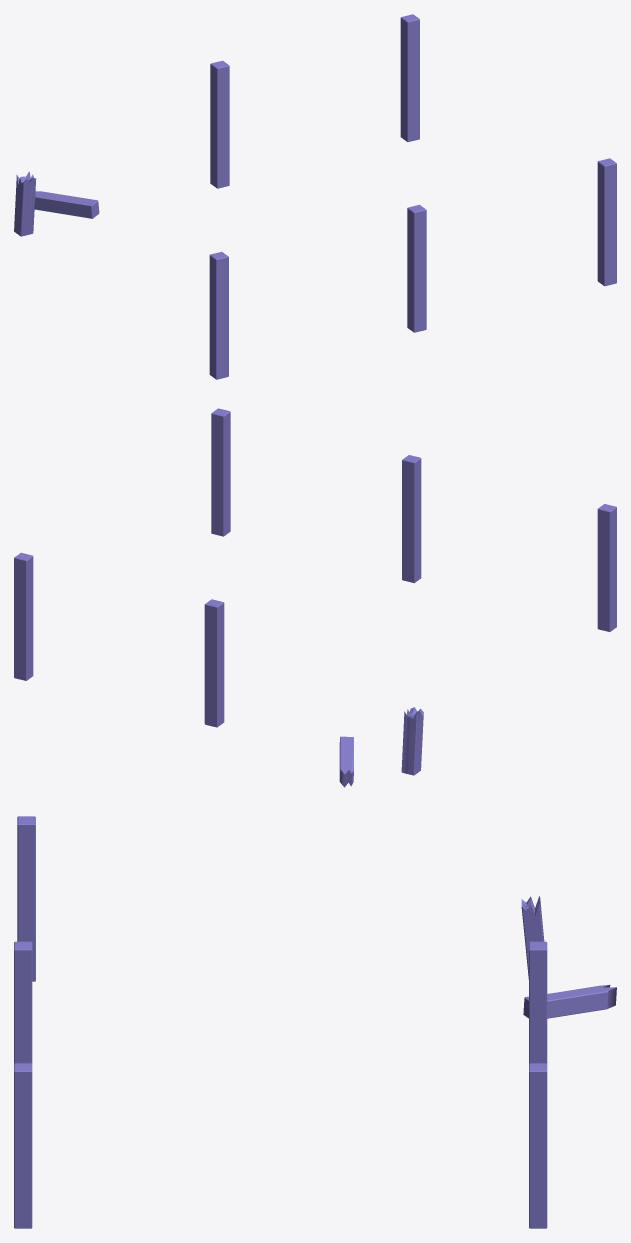
The model's file is Poteau.fbx.
The picture shows the model from 3 angles, top to bottom: view 1: azimuth 30°, elevation 25°; view 2: azimuth 150°, elevation 25°; view 3: azimuth 270°, elevation 25°; orthographic projection. The views are drawn at different scales.
Parts seen in each view (by area): view 1: Poteau; view 2: Poteau; view 3: Poteau.
Part boxes in pixels (bbox=[...]): Poteau: bbox=[14, 14, 616, 379]; Poteau: bbox=[14, 408, 616, 787]; Poteau: bbox=[14, 816, 616, 1228].
Bounding box in the file's own units: 1662 × 491 × 1660.
